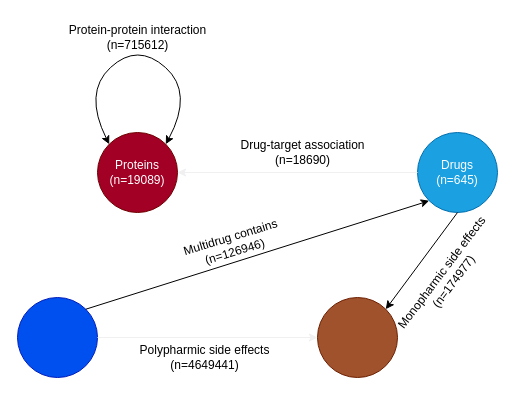
The diagram is 529 pixels wide and 395 high, and some of its shapes have lost their labels. Each missing label, with the box of its shape:
Multi drugs (n=63473): (16, 296, 98, 378)
Side effects (n=11501): (316, 296, 398, 378)
